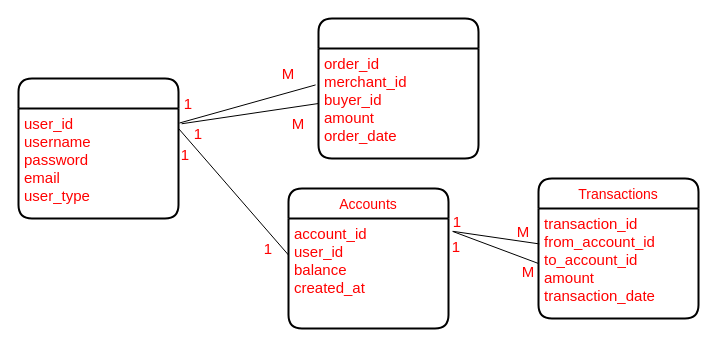
This 716x346 diagram has some shape labels left out. The shapes that lost their labels are listed below. From the top down, each one's box as (x1, y1, x2, y2) in pixels, then its label:
(317, 17, 479, 159): Orders
(17, 77, 179, 219): Users
